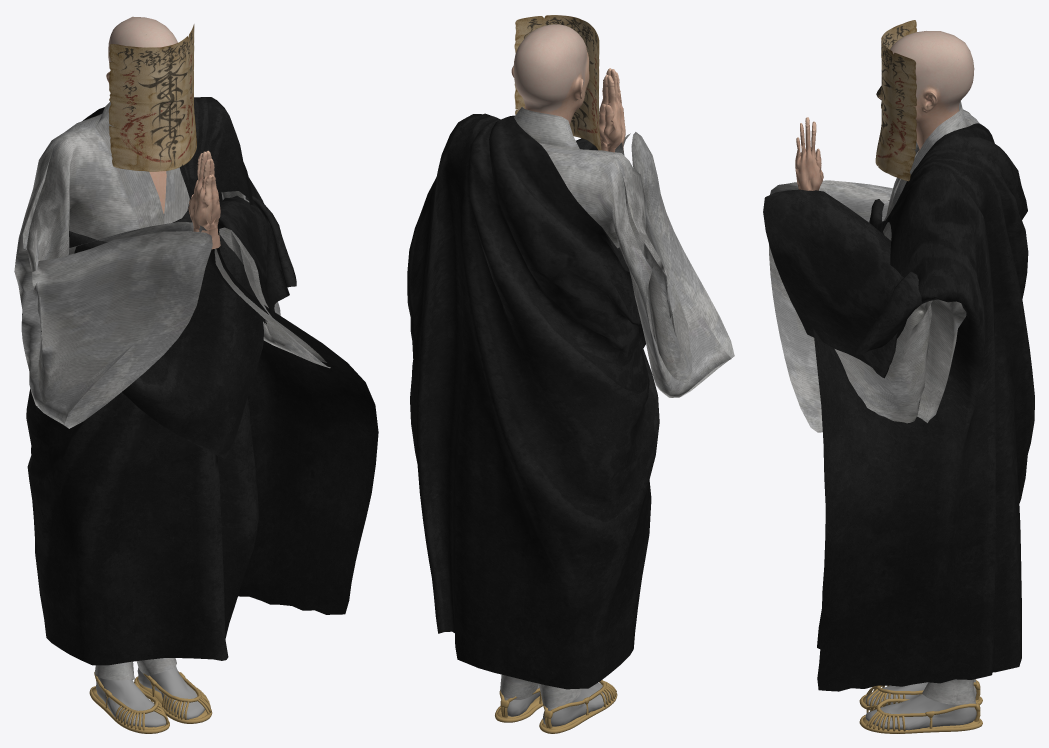
File: monk-praying.glb
3 views of the same model, side by side, from view 1: azimuth 30°, elevation 25°; view 2: azimuth 150°, elevation 25°; view 3: azimuth 270°, elevation 25° (orthographic).
Visible parts, largest first — view 1: PrayingMonk_gasa001_gasa_0, PrayingMonk_upper001_upper_0, PrayingMonk_Face_Ofuda, PrayingMonk_man001_man_0, PrayingMonk_ChamferBox004_shoes_0, PrayingMonk_pants001_pants_0; view 2: PrayingMonk_gasa001_gasa_0, PrayingMonk_upper001_upper_0, PrayingMonk_man001_man_0, PrayingMonk_Face_Ofuda, PrayingMonk_ChamferBox004_shoes_0, PrayingMonk_pants001_pants_0; view 3: PrayingMonk_gasa001_gasa_0, PrayingMonk_upper001_upper_0, PrayingMonk_man001_man_0, PrayingMonk_Face_Ofuda, PrayingMonk_ChamferBox004_shoes_0, PrayingMonk_pants001_pants_0.
Boxes of the visible parts, x1,y1,x2,y2 form: PrayingMonk_gasa001_gasa_0: (26, 97, 378, 665); PrayingMonk_upper001_upper_0: (14, 102, 330, 428); PrayingMonk_Face_Ofuda: (108, 24, 196, 171); PrayingMonk_man001_man_0: (96, 16, 220, 727); PrayingMonk_ChamferBox004_shoes_0: (89, 671, 212, 733); PrayingMonk_pants001_pants_0: (95, 658, 176, 680); PrayingMonk_gasa001_gasa_0: (407, 113, 659, 689); PrayingMonk_upper001_upper_0: (514, 107, 734, 397); PrayingMonk_man001_man_0: (503, 24, 625, 726); PrayingMonk_Face_Ofuda: (514, 15, 601, 150); PrayingMonk_ChamferBox004_shoes_0: (495, 680, 617, 733); PrayingMonk_pants001_pants_0: (500, 674, 582, 708); PrayingMonk_gasa001_gasa_0: (763, 123, 1034, 691); PrayingMonk_upper001_upper_0: (769, 101, 978, 432); PrayingMonk_man001_man_0: (795, 31, 976, 730); PrayingMonk_Face_Ofuda: (875, 20, 916, 181); PrayingMonk_ChamferBox004_shoes_0: (859, 679, 982, 733); PrayingMonk_pants001_pants_0: (922, 679, 975, 704).
Size of the model in its own units: 0.7615 by 1.59 by 0.5746.
Materials: 8 (6 with a texture image).
